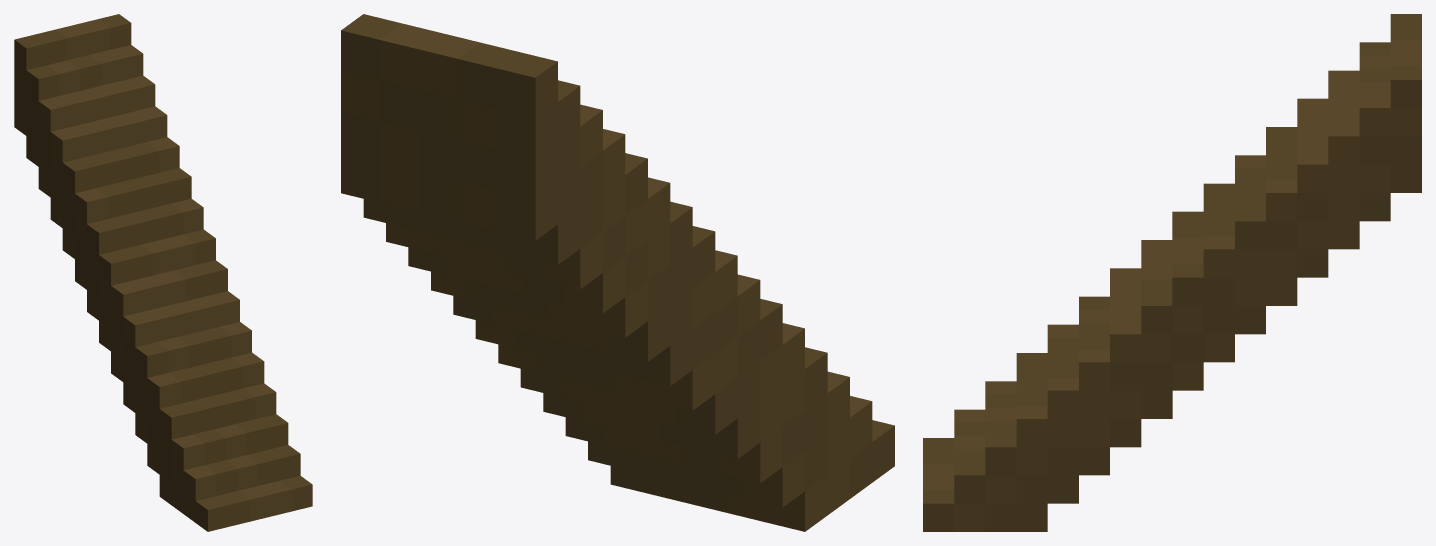
The model's file is tavern-11-roof_middle5px.obj.
The picture shows the model from 3 angles, left to right: view 1: azimuth 30°, elevation 25°; view 2: azimuth 150°, elevation 25°; view 3: azimuth 270°, elevation 25°; orthographic projection. The views are drawn at different scales.
Parts seen in each view (by area): view 1: roof_middle5px; view 2: roof_middle5px; view 3: roof_middle5px.
Boxes of the visible parts, left/top/right/bottom form: roof_middle5px: left=14, top=14, right=312, bottom=531; roof_middle5px: left=341, top=14, right=894, bottom=531; roof_middle5px: left=923, top=14, right=1421, bottom=531.
Size of the model in its own units: 0.5 by 1.6 by 1.6.
1 material, 1 textured.
